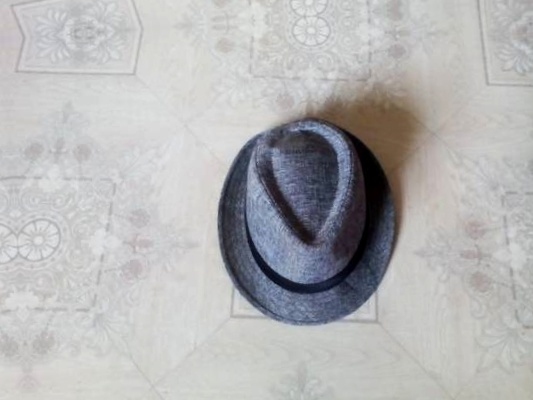Hat: (196, 94, 407, 342)
